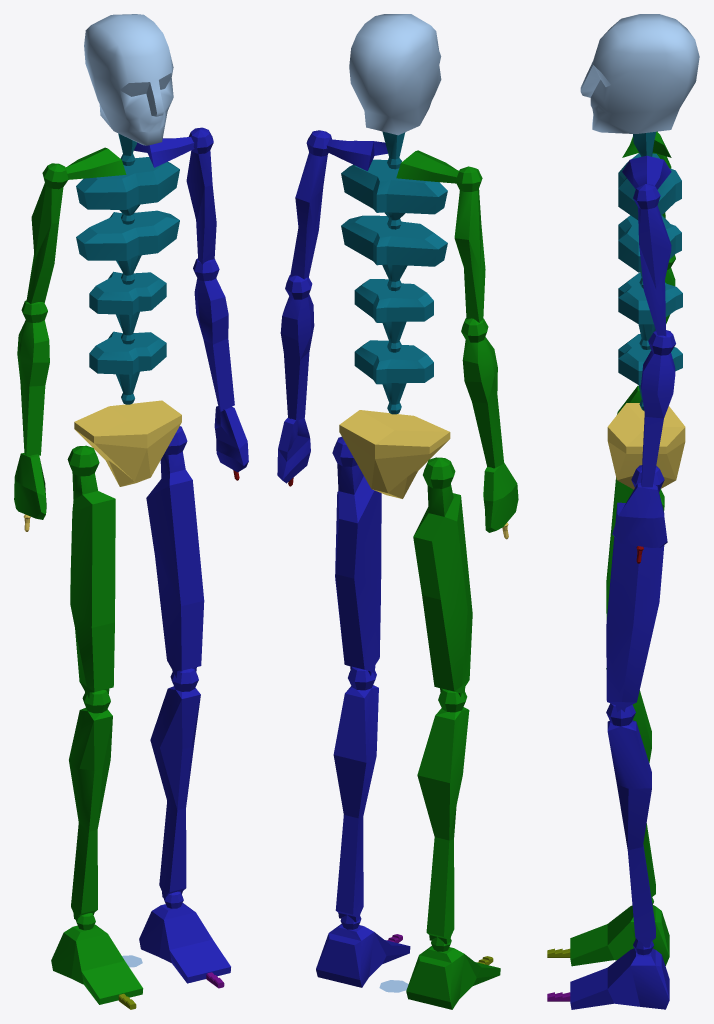
Rendered from skeleton.obj.
3 renders of one model, left to right at view 1: azimuth 30°, elevation 25°; view 2: azimuth 150°, elevation 25°; view 3: azimuth 270°, elevation 25°, orthographic. The views are drawn at different scales.
Visible parts, largest first — view 1: Bip001_R_Thigh, Bip001_L_Thigh, Bip001_Head, Bip001_L_Calf, Bip001_R_Calf, Bip001_Pelvis, Bip001_L_Foot, Bip001_R_Foot, Bip001_Spine2, Bip001_Spine3, Bip001_R_Forearm, Bip001_L_Forearm (+8 smaller); view 2: Bip001_R_Thigh, Bip001_Head, Bip001_L_Thigh, Bip001_R_Calf, Bip001_L_Calf, Bip001_Pelvis, Bip001_Spine2, Bip001_Spine3, Bip001_R_Forearm, Bip001_R_Foot, Bip001_L_Foot, Bip001_L_Forearm (+9 smaller); view 3: Bip001_Head, Bip001_L_Thigh, Bip001_L_Calf, Bip001_L_Foot, Bip001_Pelvis, Bip001_L_Forearm, Bip001_L_UpperArm, Bip001_R_Foot, Bip001_L_Hand, Bip001_Spine1, Bip001_Spine2, Bip001_Spine3 (+6 smaller).
Boxes of the visible parts, x1,y1,x2,y2 form: Bip001_R_Thigh: [67, 445, 115, 698]; Bip001_L_Thigh: [146, 426, 204, 678]; Bip001_Head: [84, 14, 173, 145]; Bip001_L_Calf: [150, 668, 200, 898]; Bip001_R_Calf: [69, 690, 112, 920]; Bip001_Pelvis: [74, 400, 181, 486]; Bip001_L_Foot: [139, 891, 230, 983]; Bip001_R_Foot: [51, 913, 143, 1004]; Bip001_Spine2: [76, 210, 179, 284]; Bip001_Spine3: [76, 157, 179, 224]; Bip001_R_Forearm: [17, 300, 49, 455]; Bip001_L_Forearm: [193, 258, 234, 411]; Bip001_R_Thigh: [413, 457, 472, 696]; Bip001_Head: [349, 14, 441, 135]; Bip001_L_Thigh: [332, 436, 381, 675]; Bip001_R_Calf: [417, 689, 469, 944]; Bip001_L_Calf: [333, 667, 378, 922]; Bip001_Pelvis: [339, 410, 450, 498]; Bip001_Spine2: [341, 215, 447, 291]; Bip001_Spine3: [341, 159, 447, 229]; Bip001_R_Forearm: [461, 318, 504, 468]; Bip001_R_Foot: [406, 937, 500, 1009]; Bip001_L_Foot: [316, 915, 410, 987]; Bip001_L_Forearm: [280, 275, 314, 420]; Bip001_Head: [580, 14, 699, 133]; Bip001_L_Thigh: [606, 465, 664, 712]; Bip001_L_Calf: [606, 703, 655, 947]; Bip001_L_Foot: [570, 938, 669, 1009]; Bip001_Pelvis: [607, 403, 685, 489]; Bip001_L_Forearm: [640, 330, 675, 487]; Bip001_L_UpperArm: [633, 184, 671, 336]; Bip001_R_Foot: [570, 897, 669, 966]; Bip001_L_Hand: [612, 483, 667, 547]; Bip001_Spine1: [618, 273, 682, 349]; Bip001_Spine2: [618, 215, 681, 288]; Bip001_Spine3: [618, 153, 681, 220].
Size of the model in its own units: 255 by 1052 by 152.
